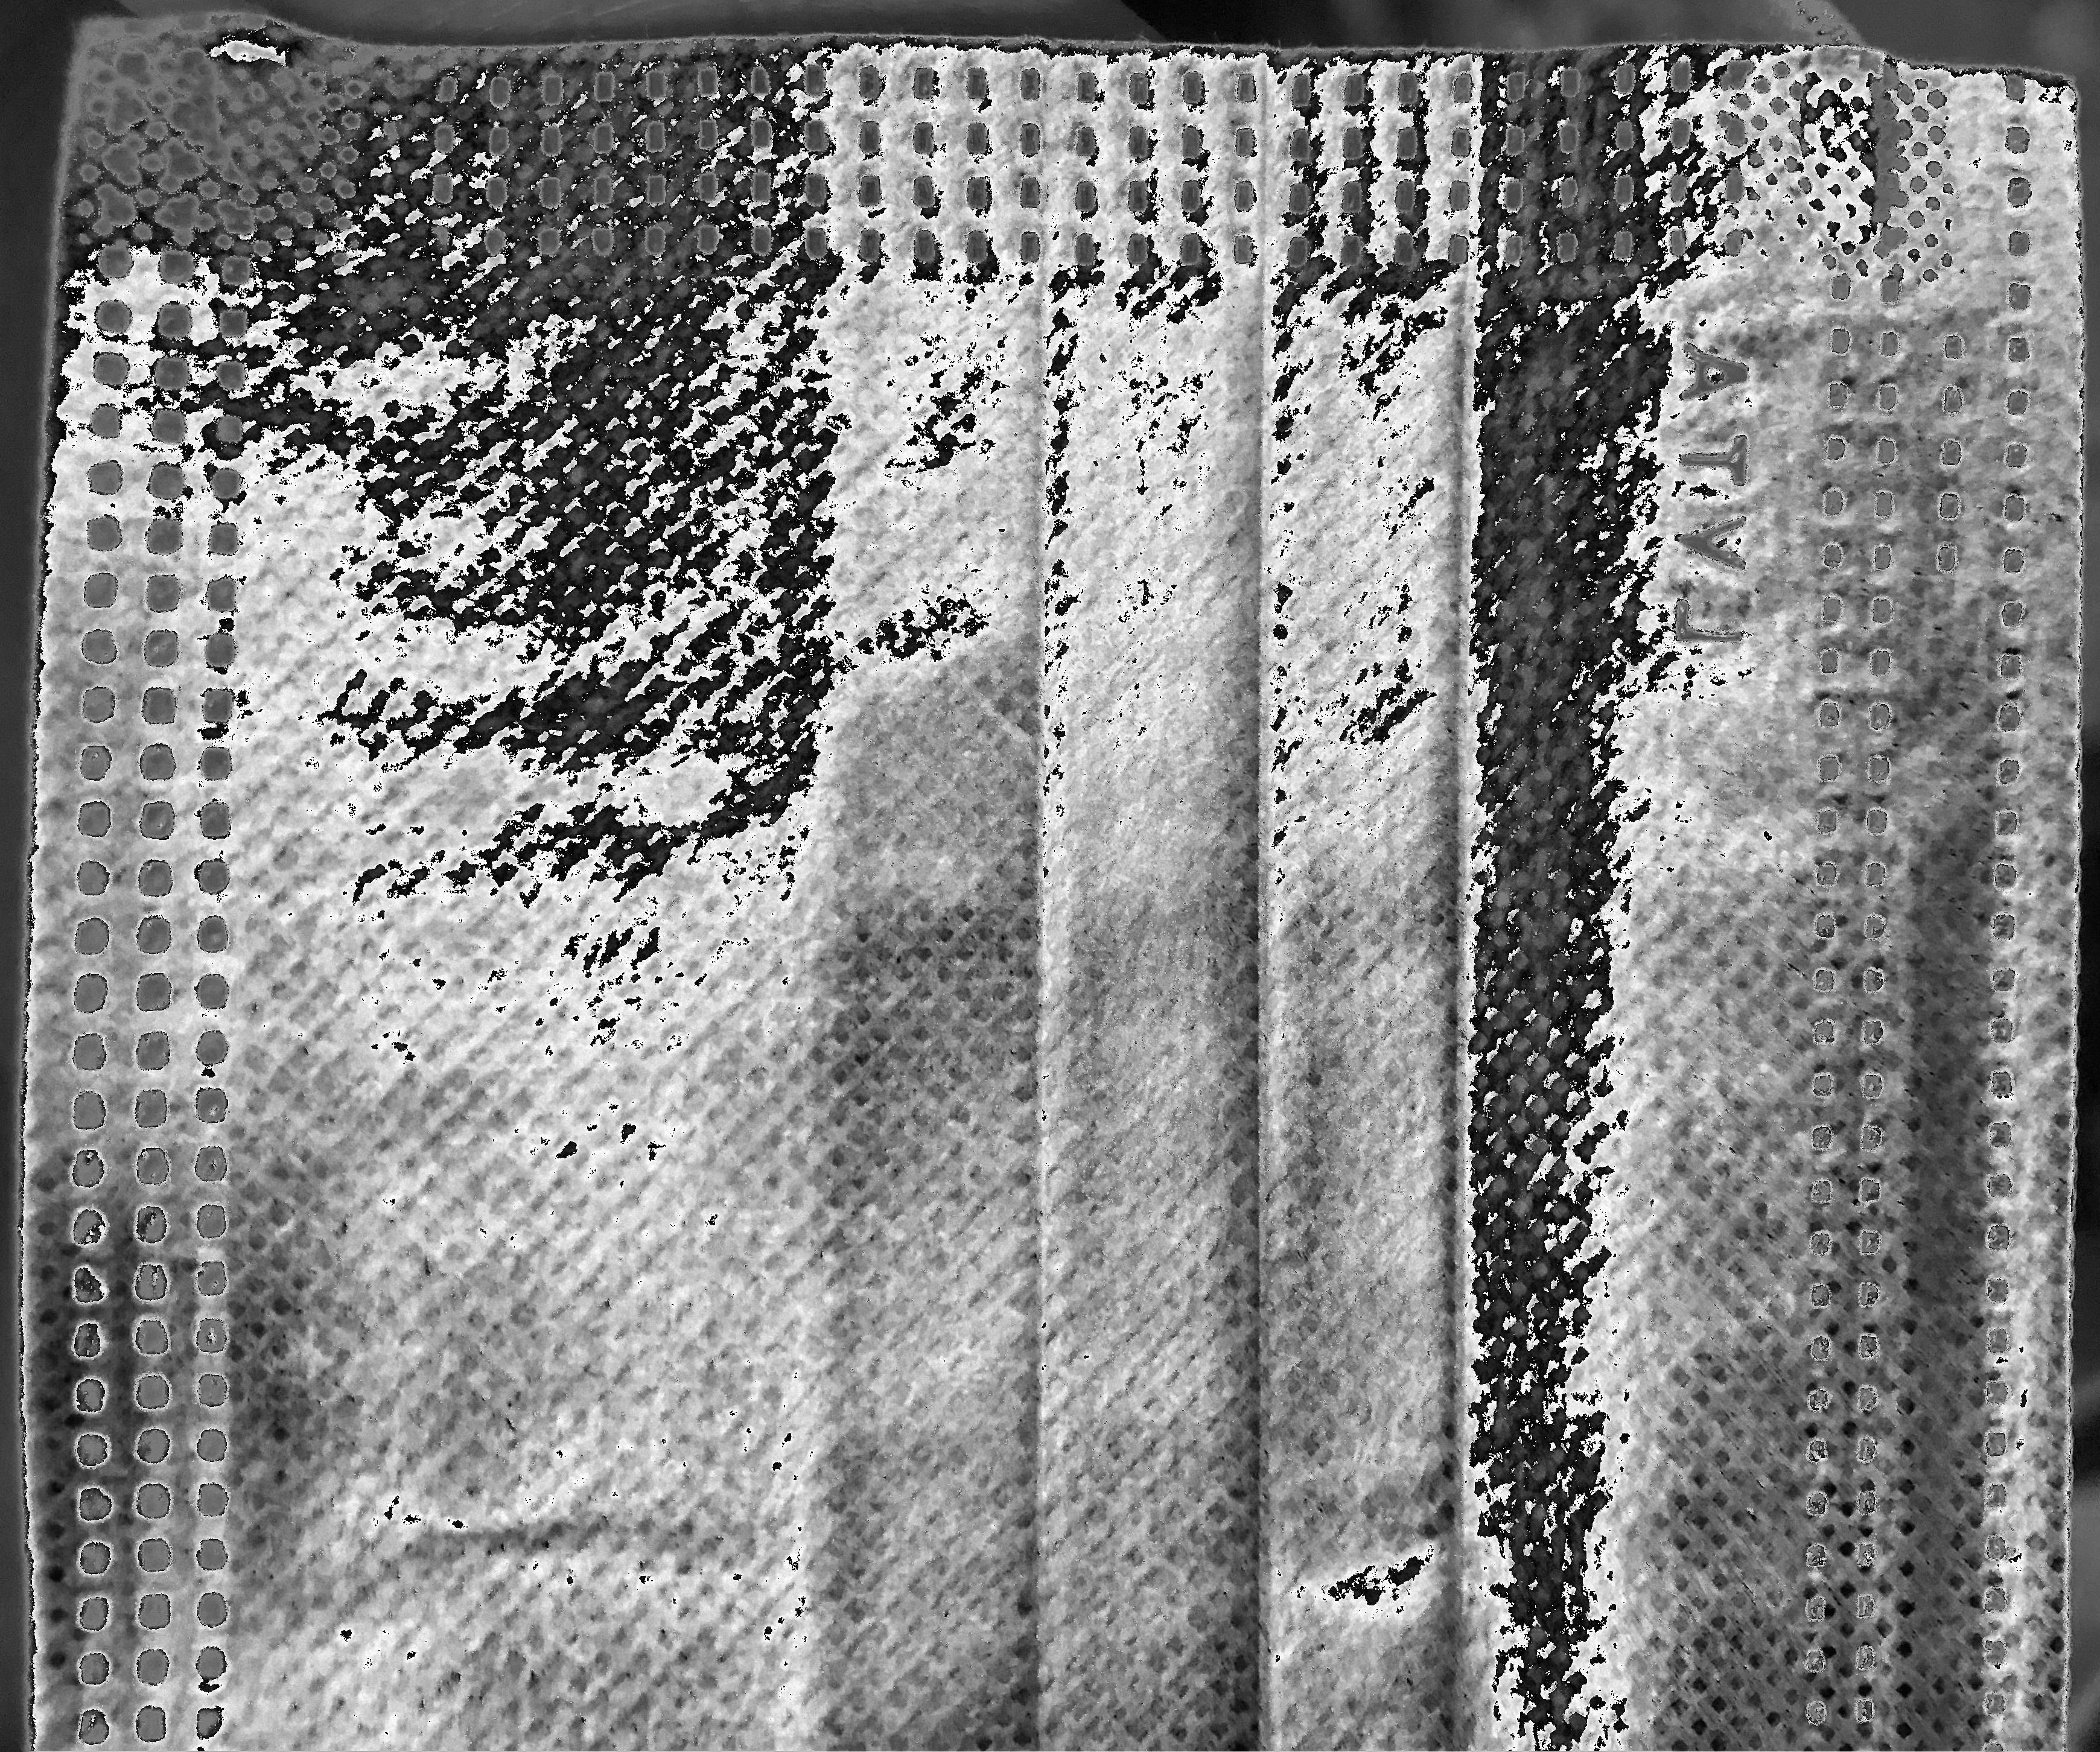High GSM: (249, 303, 1650, 1745)
